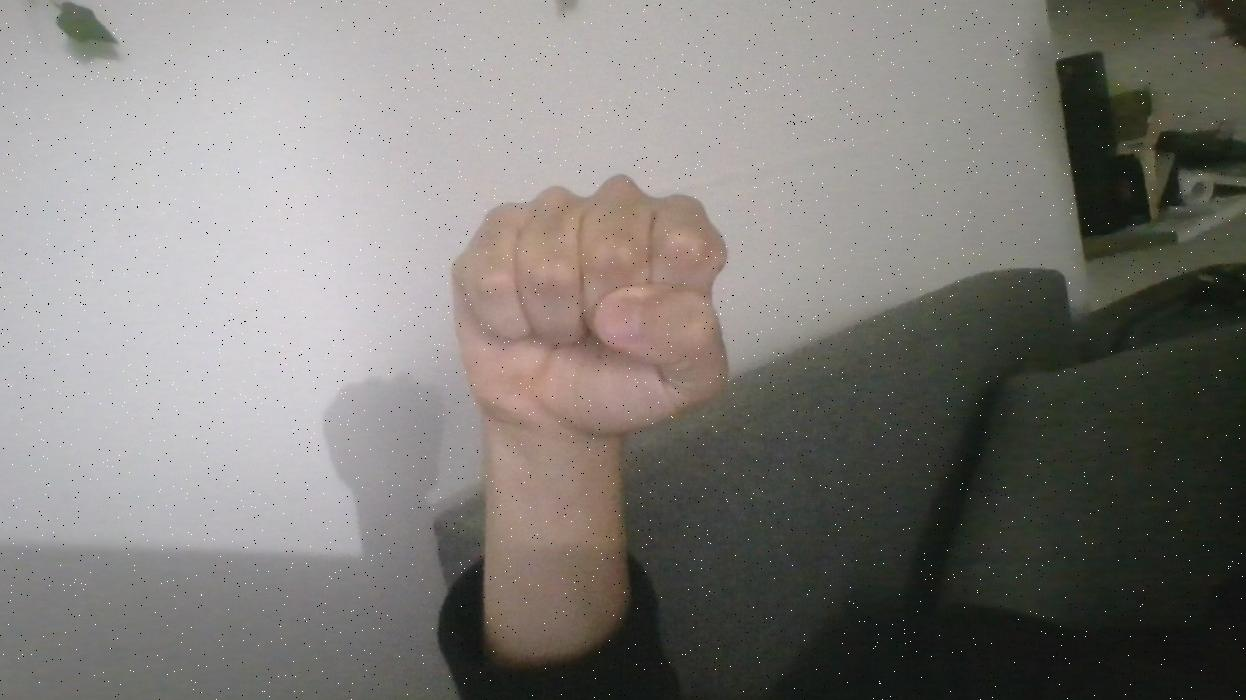stop: (428, 160, 755, 457)
